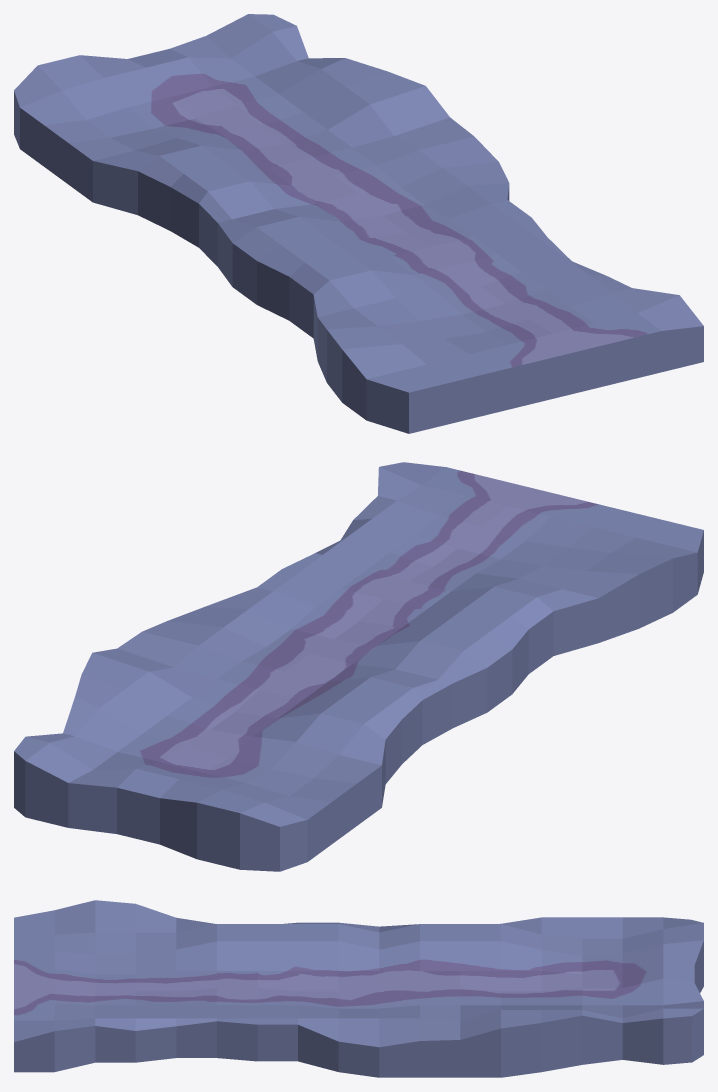
File: A2_Ground_02.fbx
The picture shows the model from 3 angles, top to bottom: view 1: azimuth 30°, elevation 25°; view 2: azimuth 150°, elevation 25°; view 3: azimuth 270°, elevation 25°; orthographic projection. The views are drawn at different scales.
Visible parts, largest first — view 1: A2_Ground_02; view 2: A2_Ground_02; view 3: A2_Ground_02.
Part boxes in pixels (x1=…): A2_Ground_02: x1=14, y1=14, x2=703, y2=433; A2_Ground_02: x1=14, y1=462, x2=703, y2=871; A2_Ground_02: x1=14, y1=900, x2=703, y2=1077.
Bounding box in the file's own units: 776 × 134 × 1700.
Materials: 1 (1 with a texture image).
